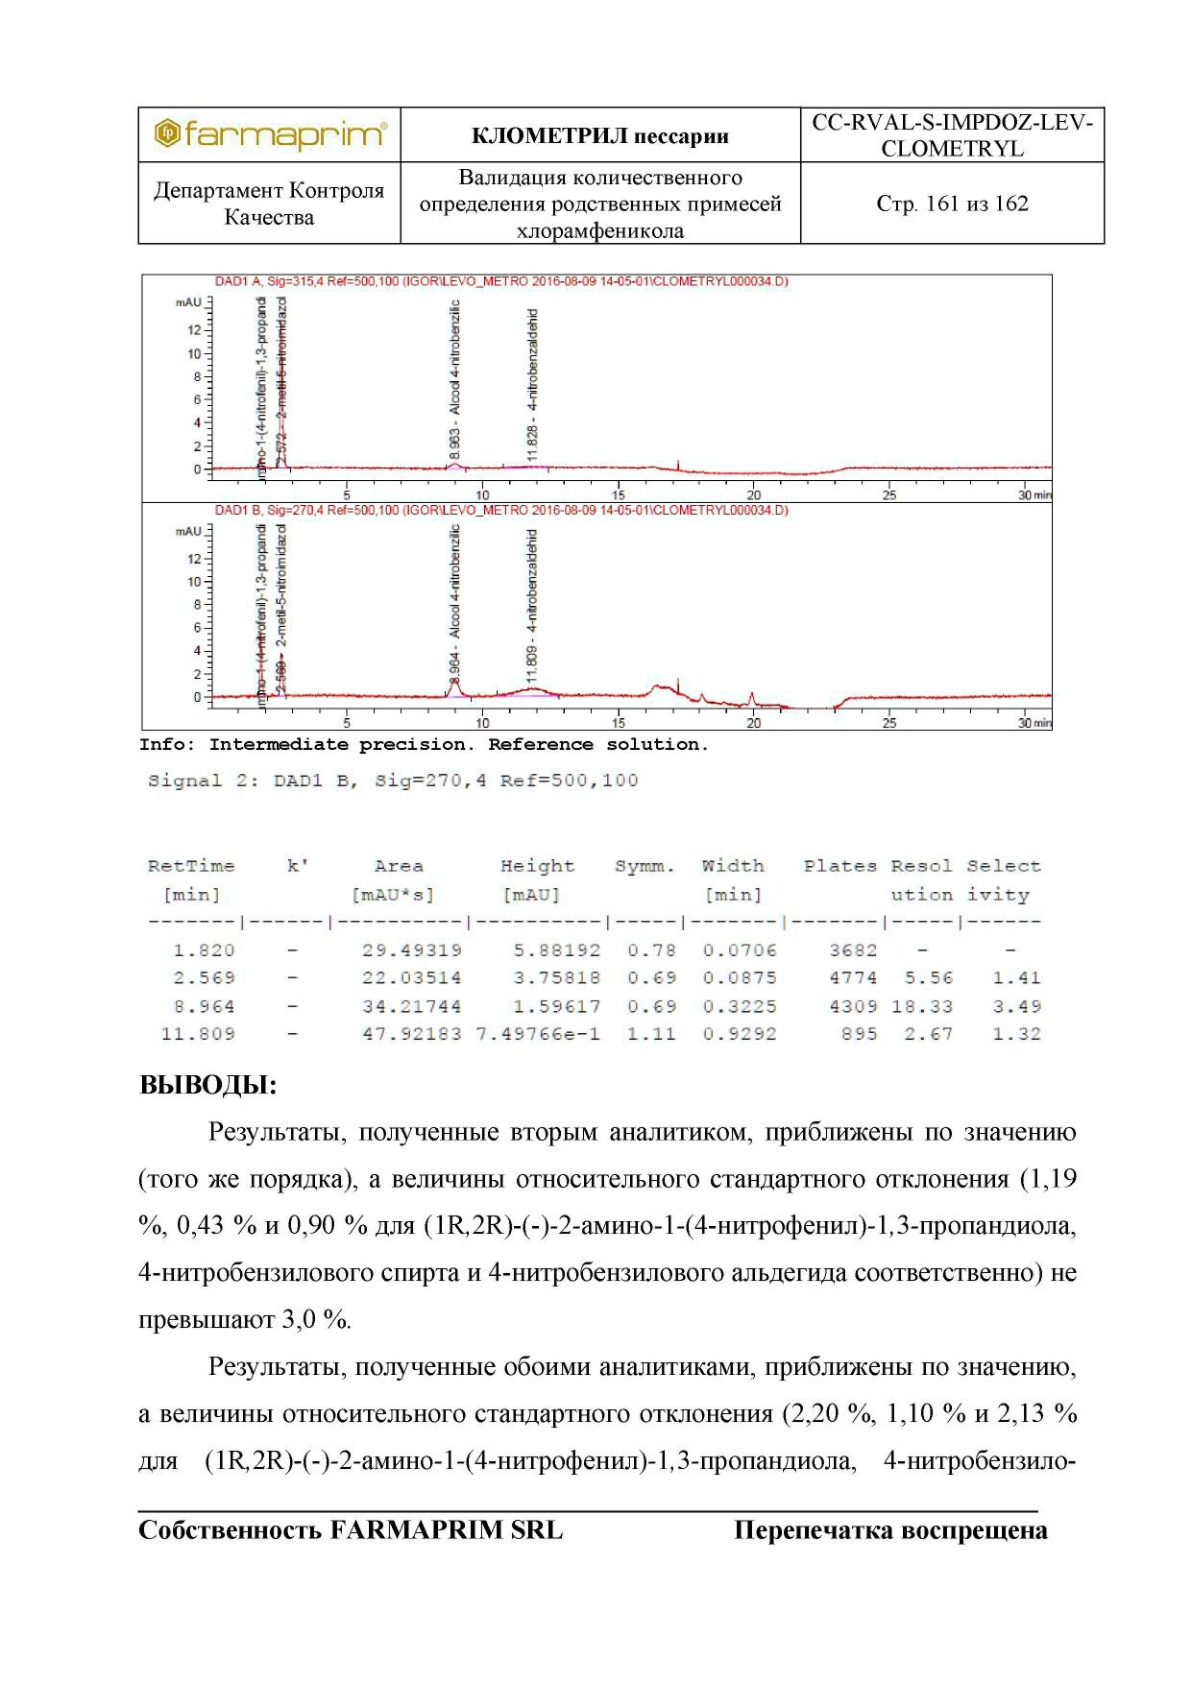full_lined: (135, 106, 1107, 245)
partial_lined: (141, 852, 1048, 1046)
